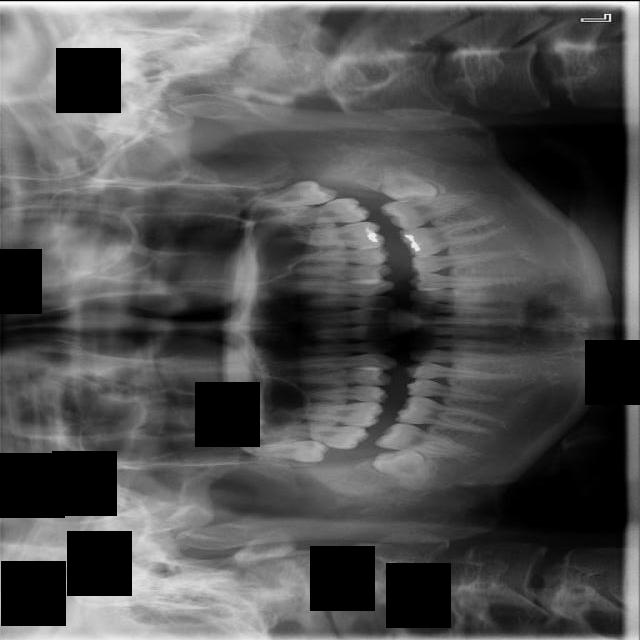3M ESPE Implant: (240, 439, 329, 463)
52: (396, 216, 442, 266), (342, 219, 386, 250)
73: (612, 6, 620, 15)
BioHorizons Implant: (261, 195, 371, 228)
BioLife Implant: (243, 175, 339, 215)
Biomet 3i Implant: (370, 154, 441, 220)
Blue Sky Bio Implant: (379, 188, 486, 234)
Caries: (265, 421, 371, 450)
Implant: (374, 418, 476, 459)
Keystone Dental Implant: (370, 434, 439, 494)
